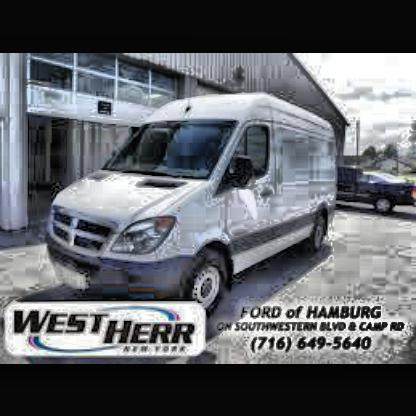Dodge Sprinter Cargo Van 2009: (51, 96, 336, 320)
